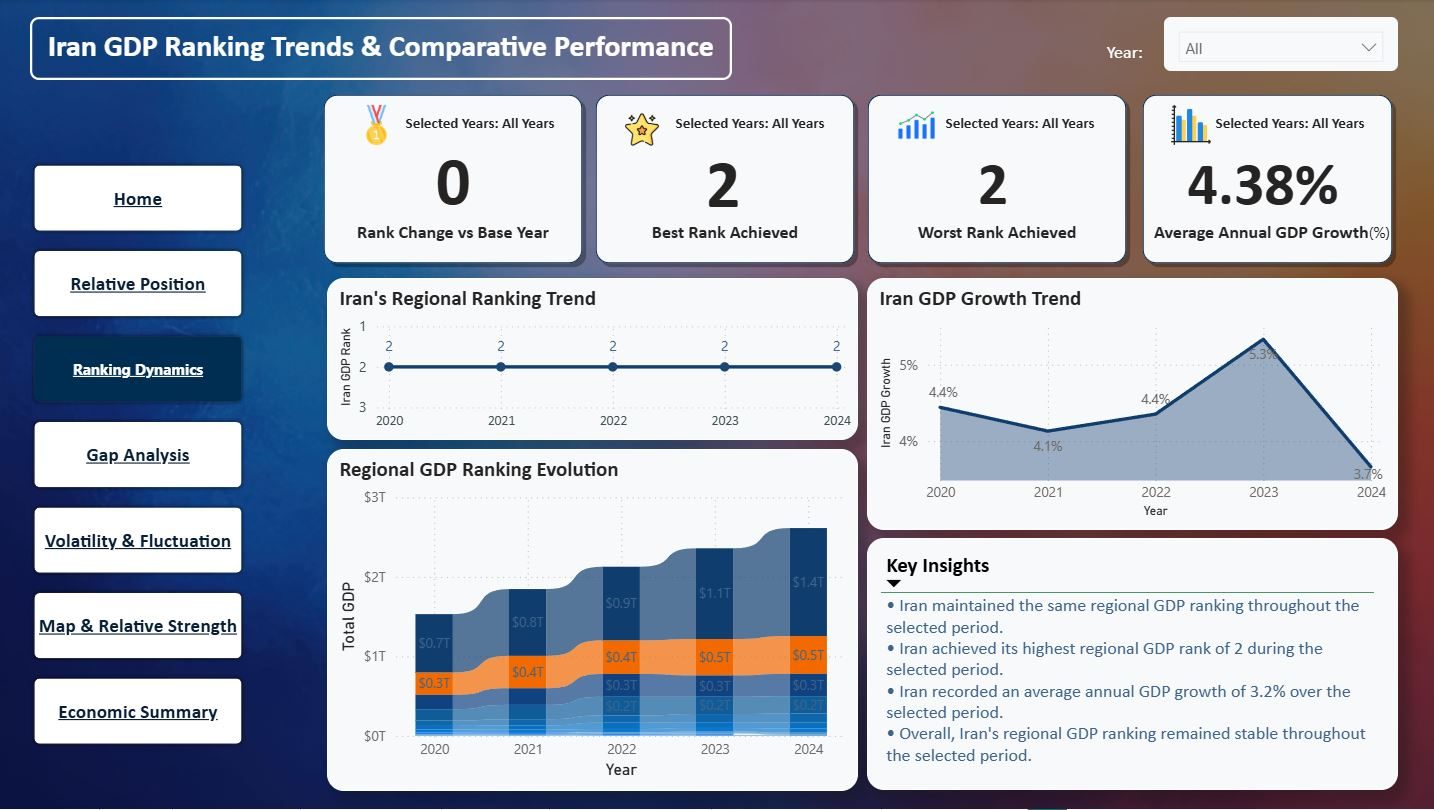

The dashboard page shown, as its layout file describes it:
{"tool":"powerbi","page":{"name":"Ranking Dynamics","canvas":[1280,720],"ordinal":2},"visuals":[{"type":"slicer","fields":{"Values":["DimDate.Year"]},"box":[1040,16,208,48],"z":0},{"type":"shape","box":[288,80,240,160],"z":0,"group":"g1"},{"type":"shape","box":[530,80,240,160],"z":0,"group":"g2"},{"type":"shape","box":[772,80,240,160],"z":0,"group":"g3"},{"type":"shape","box":[1016,80,232,160],"z":0,"group":"g4"},{"type":"textbox","box":[984,32,56,32],"z":1000},{"type":"card","fields":{"Values":["Measure.RankChangevsBase"]},"box":[288,120,240,72],"z":1000,"group":"g1"},{"type":"card","fields":{"Values":["Measure.GDPRank"]},"box":[528,128,240,64],"z":2000},{"type":"pageNavigator","box":[32,144,192,528],"z":3000},{"type":"textbox","box":[530,192,240,48],"z":3000,"group":"g2"},{"type":"textbox","box":[32,16,624,56],"z":4000},{"type":"textbox","box":[288,192,240,48],"z":4000,"group":"g1"},{"type":"textbox","box":[770,192,240,48],"z":4000,"group":"g3"},{"type":"textbox","box":[1016,192,240,64],"z":4000,"group":"g4"},{"type":"group","id":"g1","title":"Group 1","box":[288,80,240,160],"z":5000},{"type":"group","id":"g2","title":"Group 1","box":[530,80,240,160],"z":6000},{"type":"group","id":"g3","title":"Group 1","box":[770,80,242,160],"z":7000},{"type":"group","id":"g4","title":"Group 1","box":[1016,80,240,176],"z":8000},{"type":"lineChart","title":"Iran''s Regional Ranking Trend","fields":{"Category":["DimDate.Year"],"Y":["Measure.IranGDPRank"]},"box":[296,248,472,144],"z":9000},{"type":"card","fields":{"Values":["Measure.SelectedYear"]},"box":[352,80,160,64],"z":10000},{"type":"card","fields":{"Values":["Measure.SelectedYear"]},"box":[1072,80,160,64],"z":11000},{"type":"card","fields":{"Values":["Measure.SelectedYear"]},"box":[832,80,160,64],"z":12000},{"type":"card","fields":{"Values":["Measure.SelectedYear"]},"box":[592,80,160,64],"z":13000},{"type":"card","fields":{"Values":["Measure.BestRank"]},"box":[528,138,240,64],"z":14000},{"type":"card","fields":{"Values":["Measure.WorstRank"]},"box":[768,138,240,64],"z":15000},{"type":"card","fields":{"Values":["Measure.AverageIranGDPGrowth"]},"box":[1008,138,240,64],"z":16000},{"type":"ribbonChart","title":"Regional GDP Ranking Evolution","fields":{"Category":["DimDate.Year"],"Series":["DimCountry.CountryName"],"Y":["Measure.TotalGDP"]},"box":[296,400,472,304],"z":17000},{"type":"areaChart","title":"Iran GDP Growth Trend","fields":{"Category":["DimDate.Year"],"Y":["Measure.IranGDPGrowth"]},"box":[776,248,472,224],"z":18000},{"type":"tableEx","title":"Key Insights and Executive Summary","fields":{"Values":["Measure.P2Insights"]},"box":[776,479.2,472,224],"z":19000},{"type":"image","box":[312,88,56,48],"z":20000},{"type":"image","box":[552,96,48,40],"z":21000},{"type":"image","box":[792,88,56,48],"z":22000},{"type":"image","box":[1040,88,48,48],"z":23000}]}

Visuals, with their boxes in screenshot pixels (x1, y1, x2, y2), scaled from the page's 1280x720 canvas onto the 1434x810 screenshot:
slicer - DimDate.Year: 1165 18 1398 72
shape: 323 90 592 270
shape: 594 90 863 270
shape: 865 90 1134 270
shape: 1138 90 1398 270
textbox: 1102 36 1165 72
card - Measure.RankChangevsBase: 323 135 592 216
card - Measure.GDPRank: 592 144 860 216
pageNavigator: 36 162 251 756
textbox: 594 216 863 270
textbox: 36 18 735 81
textbox: 323 216 592 270
textbox: 863 216 1132 270
textbox: 1138 216 1407 288
"Group 1" group: 323 90 592 270
"Group 1" group: 594 90 863 270
"Group 1" group: 863 90 1134 270
"Group 1" group: 1138 90 1407 288
"Iran''s Regional Ranking Trend" lineChart: 332 279 860 441
card - Measure.SelectedYear: 394 90 574 162
card - Measure.SelectedYear: 1201 90 1380 162
card - Measure.SelectedYear: 932 90 1111 162
card - Measure.SelectedYear: 663 90 842 162
card - Measure.BestRank: 592 155 860 227
card - Measure.WorstRank: 860 155 1129 227
card - Measure.AverageIranGDPGrowth: 1129 155 1398 227
"Regional GDP Ranking Evolution" ribbonChart: 332 450 860 792
"Iran GDP Growth Trend" areaChart: 869 279 1398 531
"Key Insights and Executive Summary" tableEx: 869 539 1398 791
image: 350 99 412 153
image: 618 108 672 153
image: 887 99 950 153
image: 1165 99 1219 153
